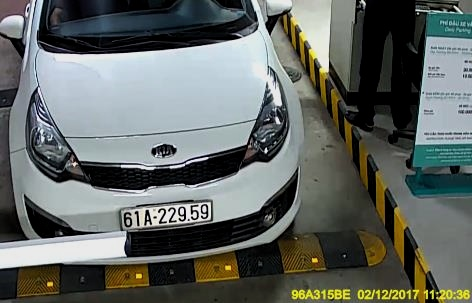plate: (117, 201, 211, 224)
